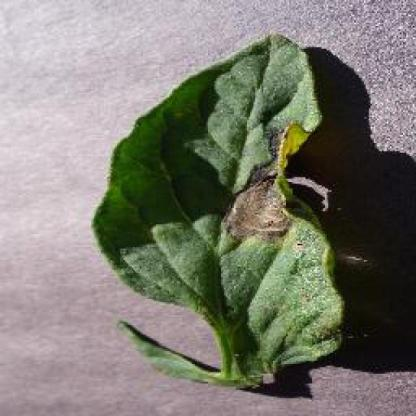Tomato_Blight: (93, 34, 344, 386)
